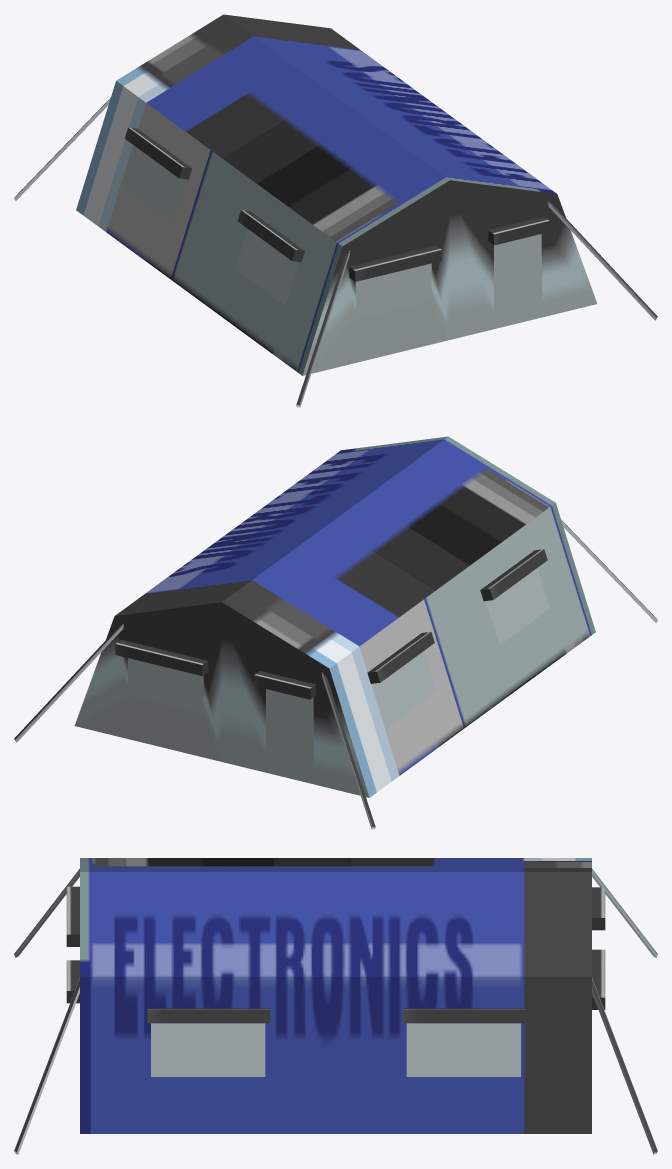
The model's file is SM_Bld_Tent_01.gltf.
3 renders of one model, top to bottom at view 1: azimuth 30°, elevation 25°; view 2: azimuth 150°, elevation 25°; view 3: azimuth 270°, elevation 25°, orthographic. The views are drawn at different scales.
Visible parts, largest first — view 1: SM_Bld_Tent_01; view 2: SM_Bld_Tent_01; view 3: SM_Bld_Tent_01.
Boxes of the visible parts, left/top/right/bottom form: SM_Bld_Tent_01: left=14, top=14, right=657, bottom=407; SM_Bld_Tent_01: left=14, top=436, right=657, bottom=829; SM_Bld_Tent_01: left=14, top=858, right=657, bottom=1154.
Bounding box in the file's own units: 12.51 × 5.39 × 17.08.
1 material, 1 textured.
